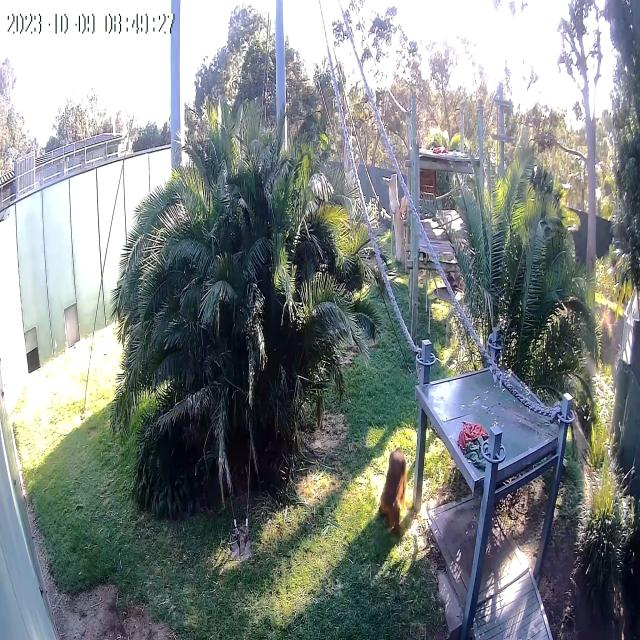orangutan: (378, 445, 408, 534)
